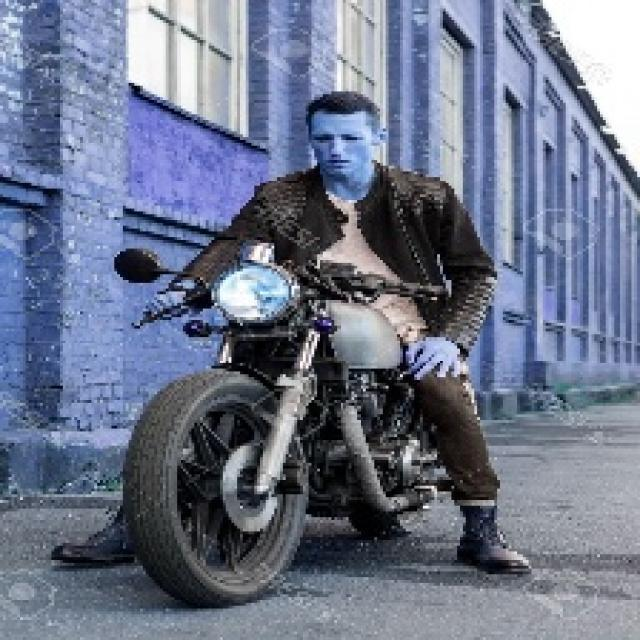bike: (127, 246, 452, 612)
